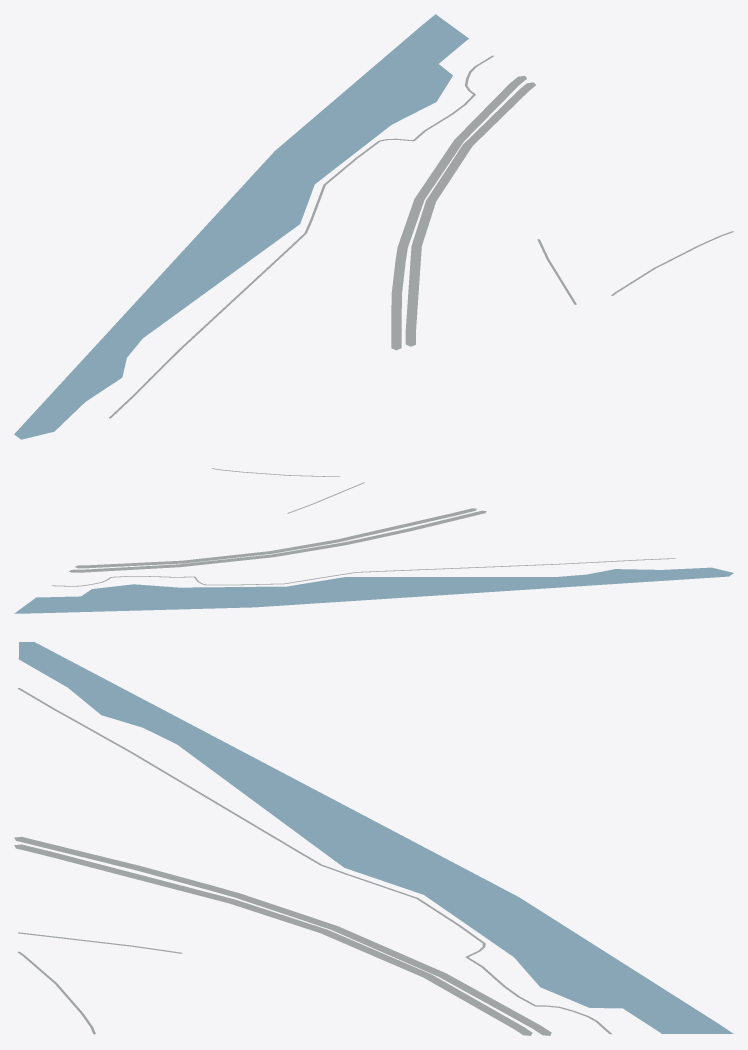
The model's file is -27_23-known-coarse.glb.
3 renders of one model, top to bottom at view 1: azimuth 30°, elevation 25°; view 2: azimuth 150°, elevation 25°; view 3: azimuth 270°, elevation 25°, orthographic. The views are drawn at different scales.
Size of the model in its own units: 1004 by 0.1 by 775.
